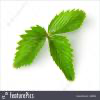Strawberry leaf: (12, 23, 47, 72), (48, 31, 78, 84), (48, 4, 87, 35)
